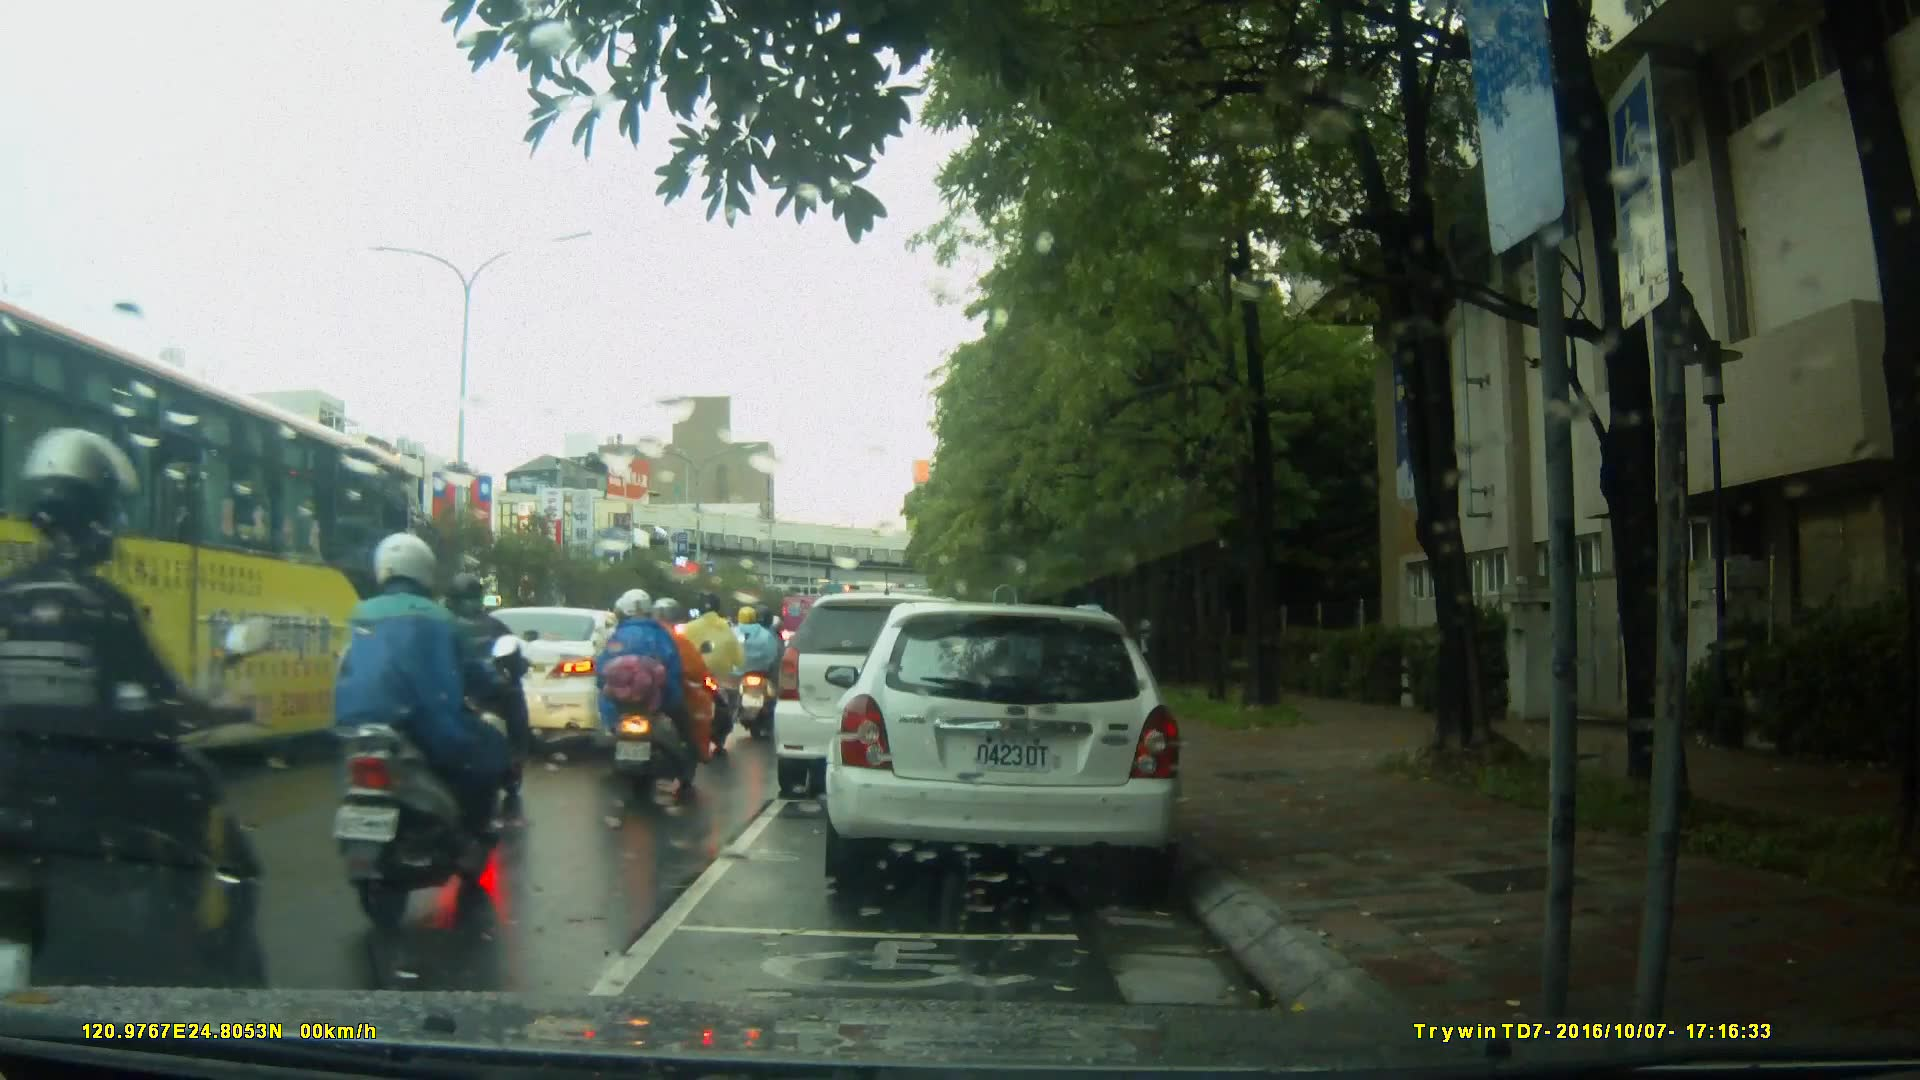rider: (9, 425, 268, 1041), (326, 517, 505, 927), (406, 570, 537, 817), (595, 587, 712, 808), (681, 591, 746, 761), (724, 605, 780, 741)
vehicle: (1, 296, 422, 794), (835, 594, 1194, 898), (776, 590, 1026, 784), (458, 605, 663, 749)
